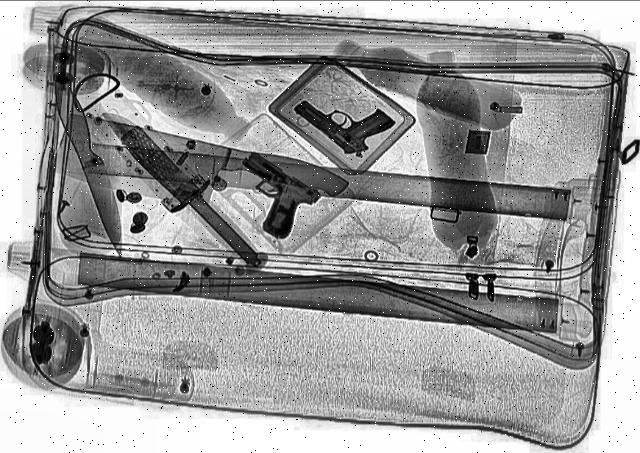Gun: (195, 151, 337, 243), (287, 81, 407, 160)
Knife: (35, 112, 355, 234), (91, 108, 277, 272), (46, 86, 138, 258)
